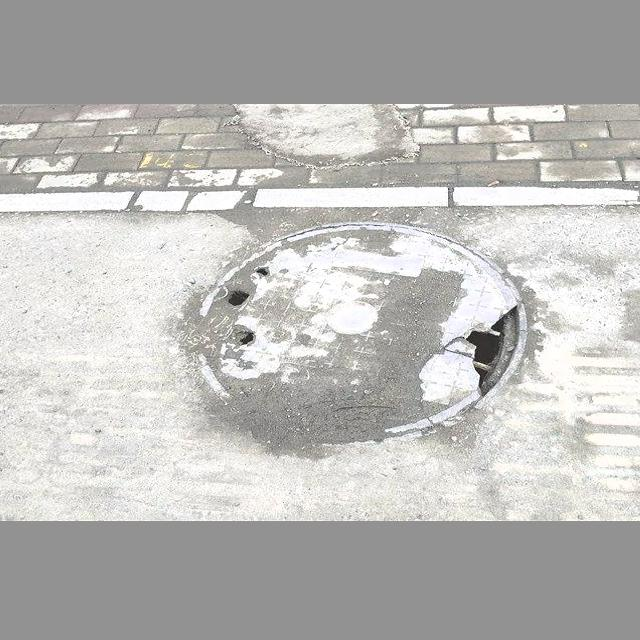broke: (190, 228, 531, 437)
